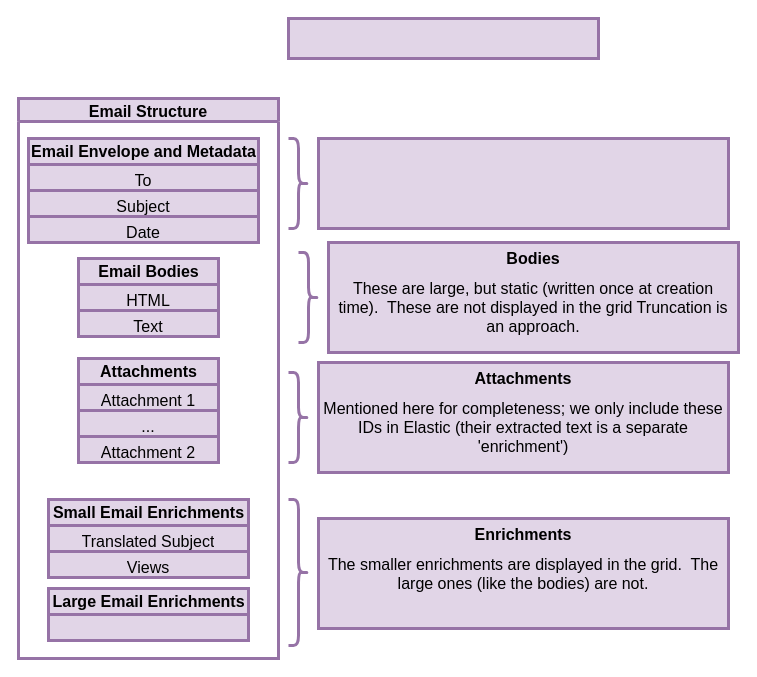
Some shapes in this 757 by 677 pixel diagram are drawn without their labels. The shapes that lost their labels are listed below. From the top down, each one's centre as x and y in pixels, then its label:
At point 443,38: "Email Structure Overview".
At point 523,183: "Metadata These are generally small, and we always want to display them.".
At point 148,627: "Attachment Extracts".
